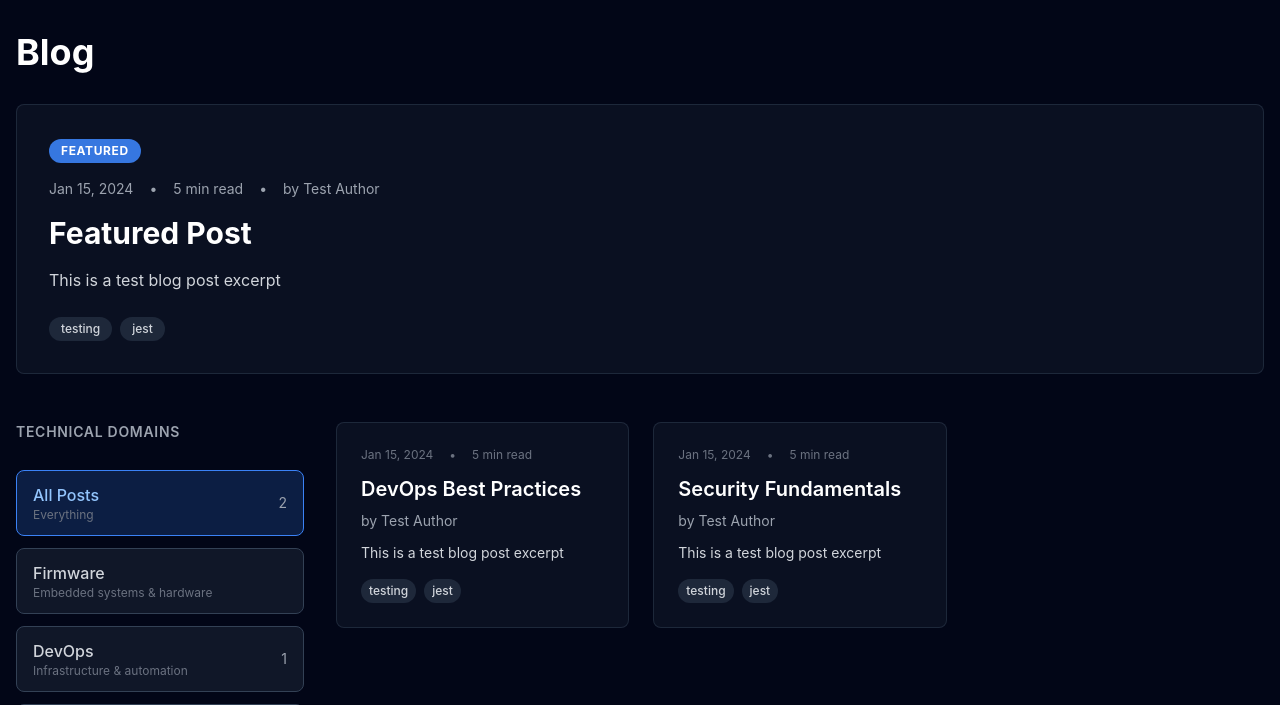
BlogLayout Domain Filtering › Filtering Behavior › handles empty filter results gracefully
// Click Firmware filter (which has no posts)
Click the button "Firmware Embedded systems & hardware" at (69, 573), box [16,548,304,614]
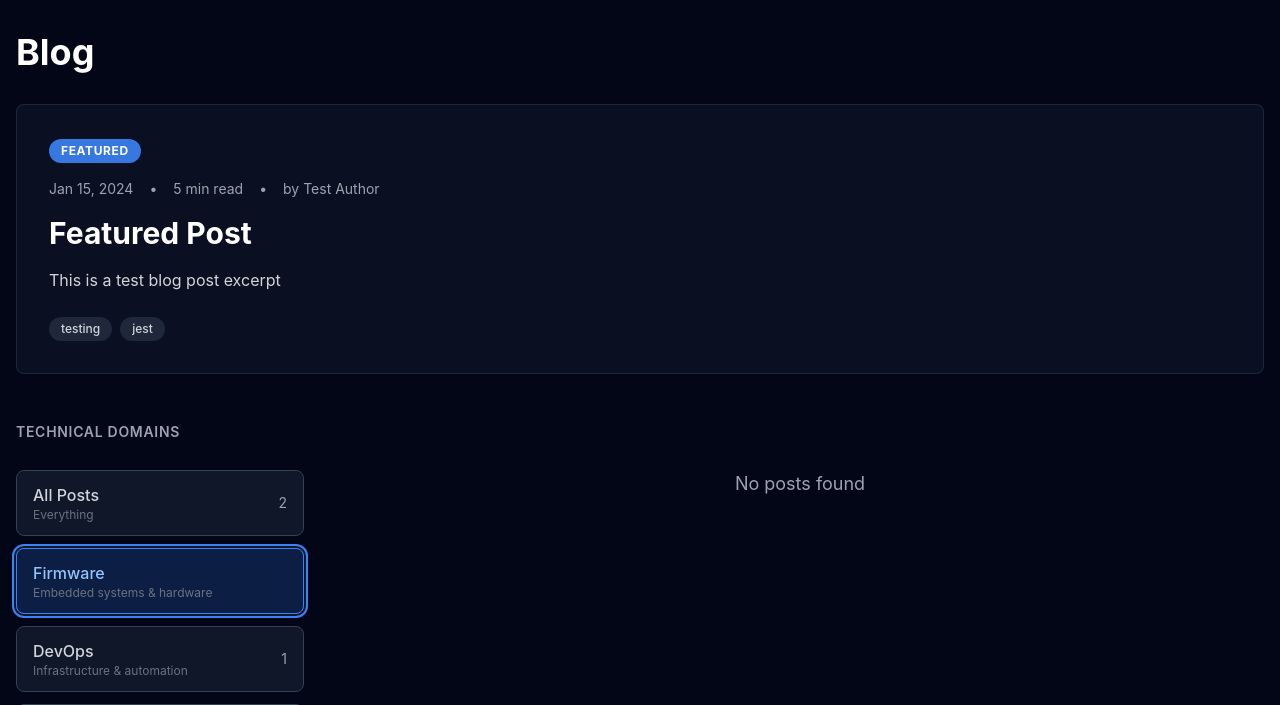
Expected: the text "No posts found" is shown, [735,473,865,494]
